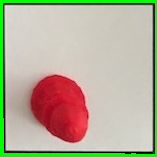Red Bishop: (28, 70, 92, 144)
